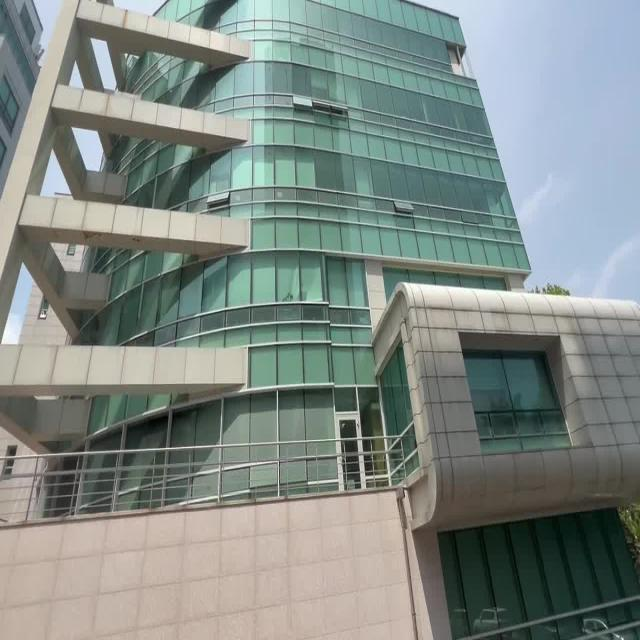building: (34, 11, 640, 624)
